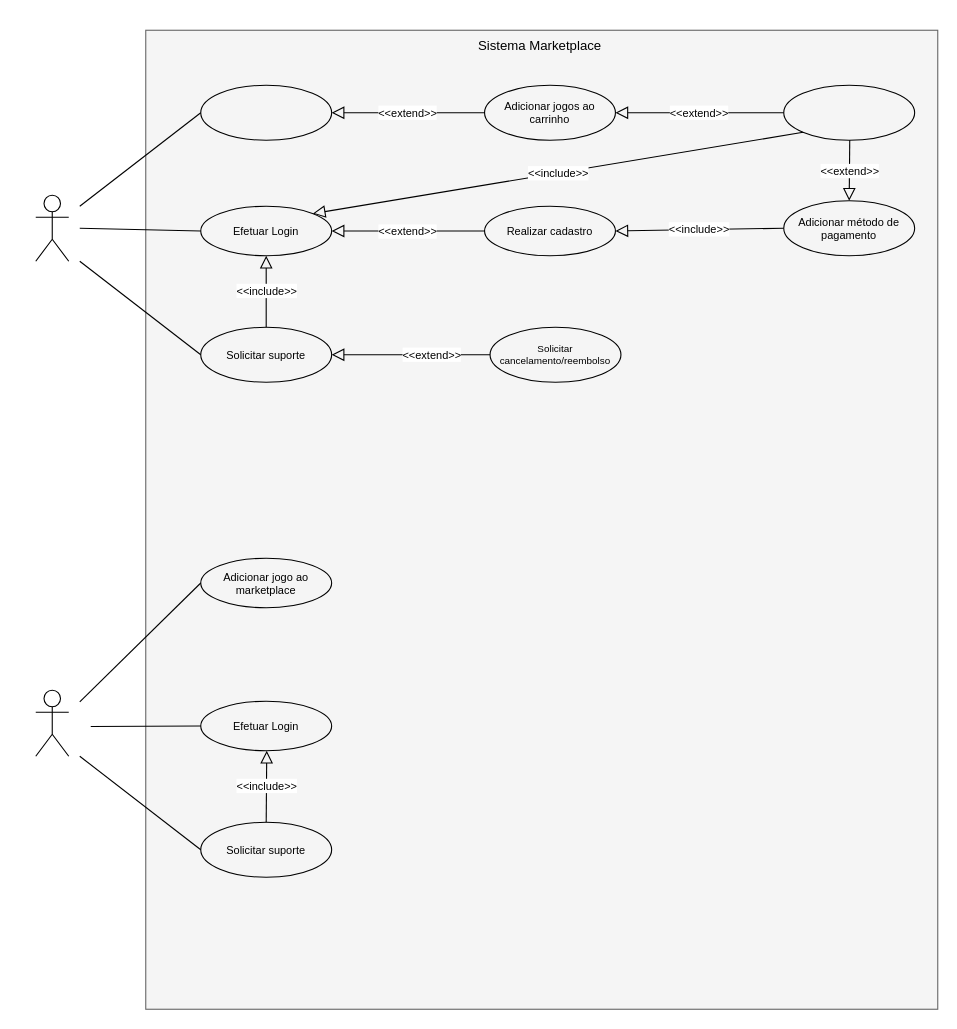
Some shapes in this 957 by 1029 pixel diagram are drawn without their labels. The shapes that lost their labels are listed below. From the top down, each one's centre as x and y in pixels, then its label:
At [266,112]: "Procurar jogos no catálogo".
At [849,112]: "Finalizar compra".
At [52,227]: "Comprador".
At [52,722]: "Vendedor".
